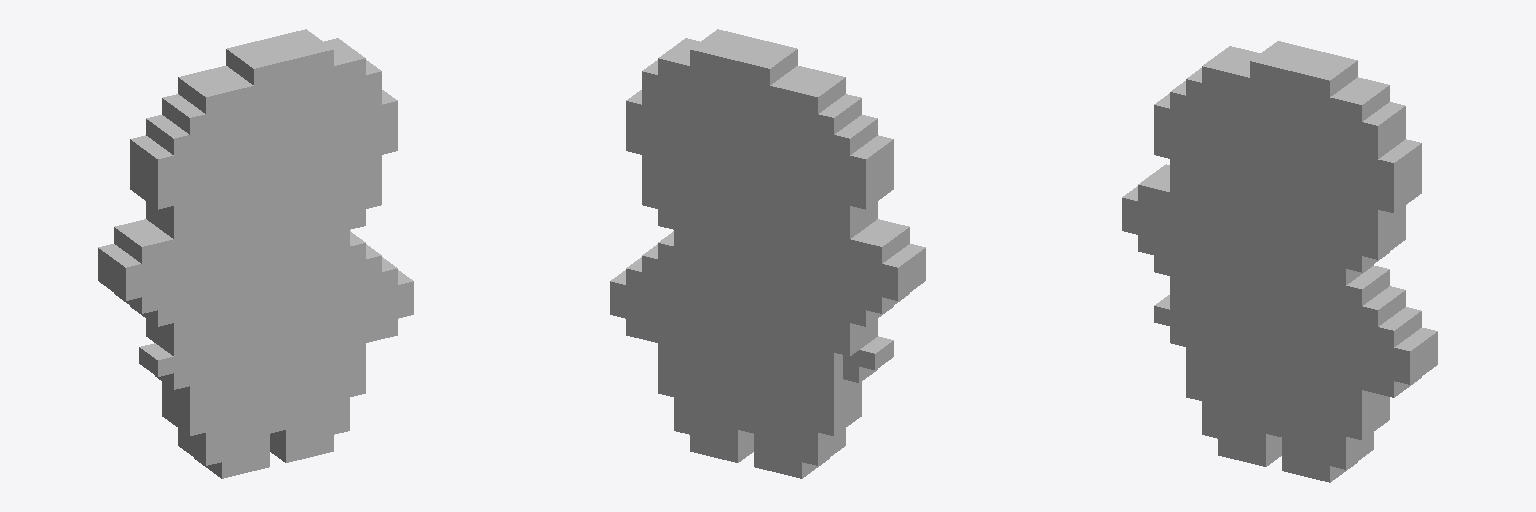
Rendered from win.obj.
3 views of the same model, side by side, from view 1: azimuth 30°, elevation 25°; view 2: azimuth 150°, elevation 25°; view 3: azimuth 330°, elevation 25° (orthographic).
Visible parts, largest first — view 1: object 1; view 2: object 1; view 3: object 1.
Part boxes in pixels (bbox=[...]): object 1: bbox=[98, 29, 413, 478]; object 1: bbox=[610, 29, 925, 478]; object 1: bbox=[1122, 41, 1437, 482].
Size of the model in its own units: 1.8 by 2.4 by 0.3.